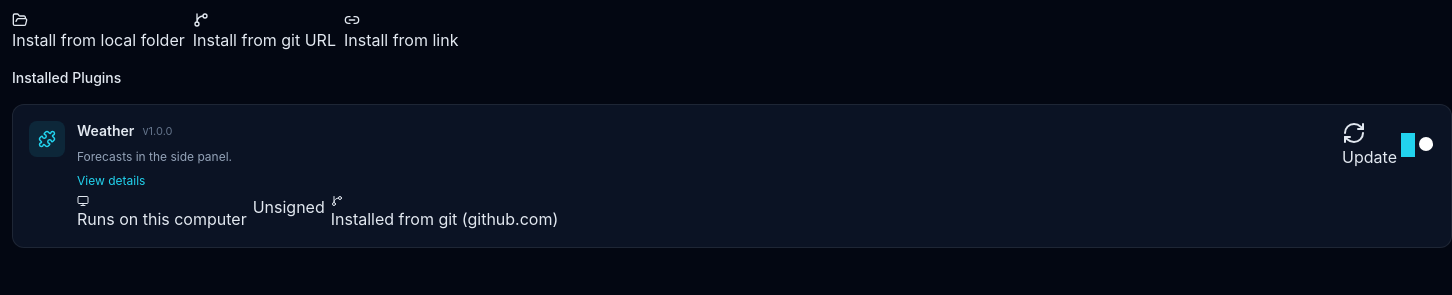
PluginSettingsPage — updating a plugin › shows the reason an update failed
Click the button "Update".
click(1370, 145)  # box [1342,121,1397,169]
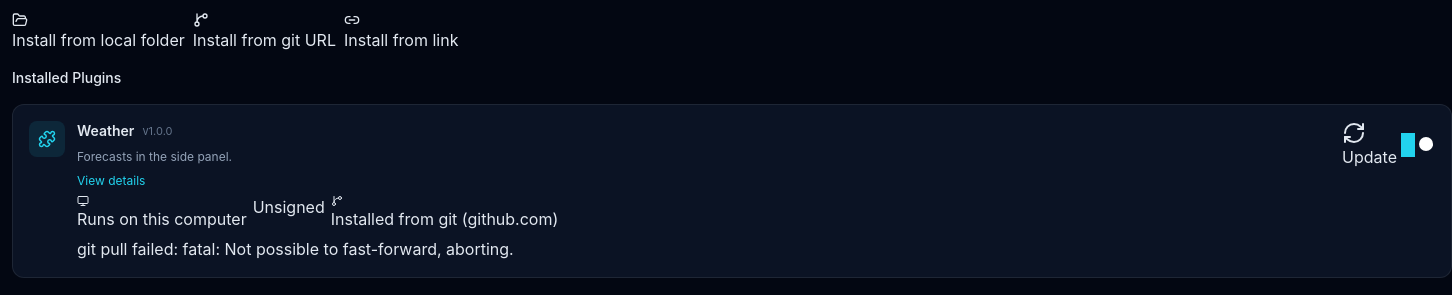
expect the text "git pull failed: fatal: Not possible to fast-forward, aborting." is shown: met, box [77,238,514,258]
